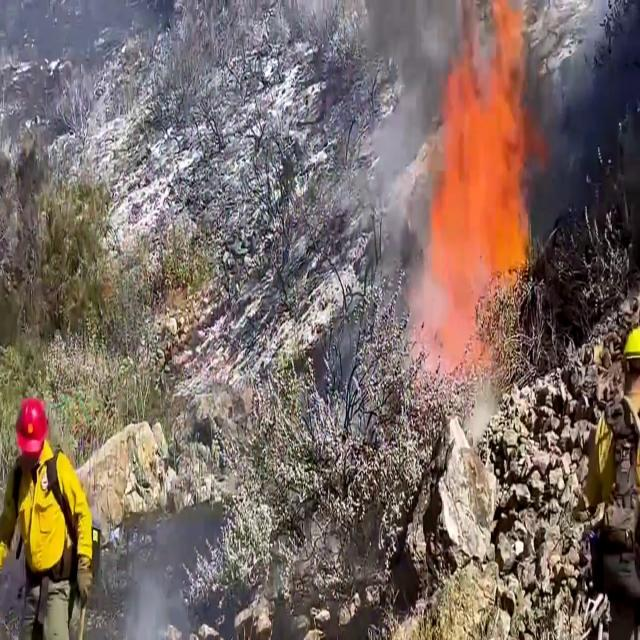Fire: (416, 3, 546, 359)
